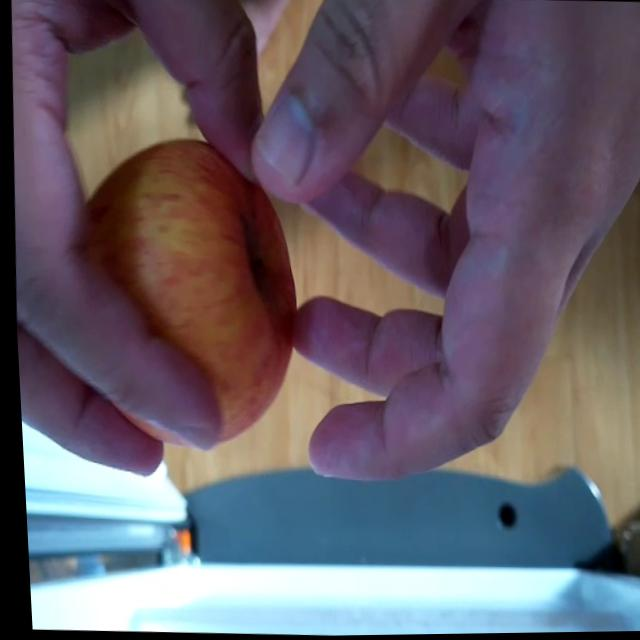apple: (80, 134, 298, 450)
